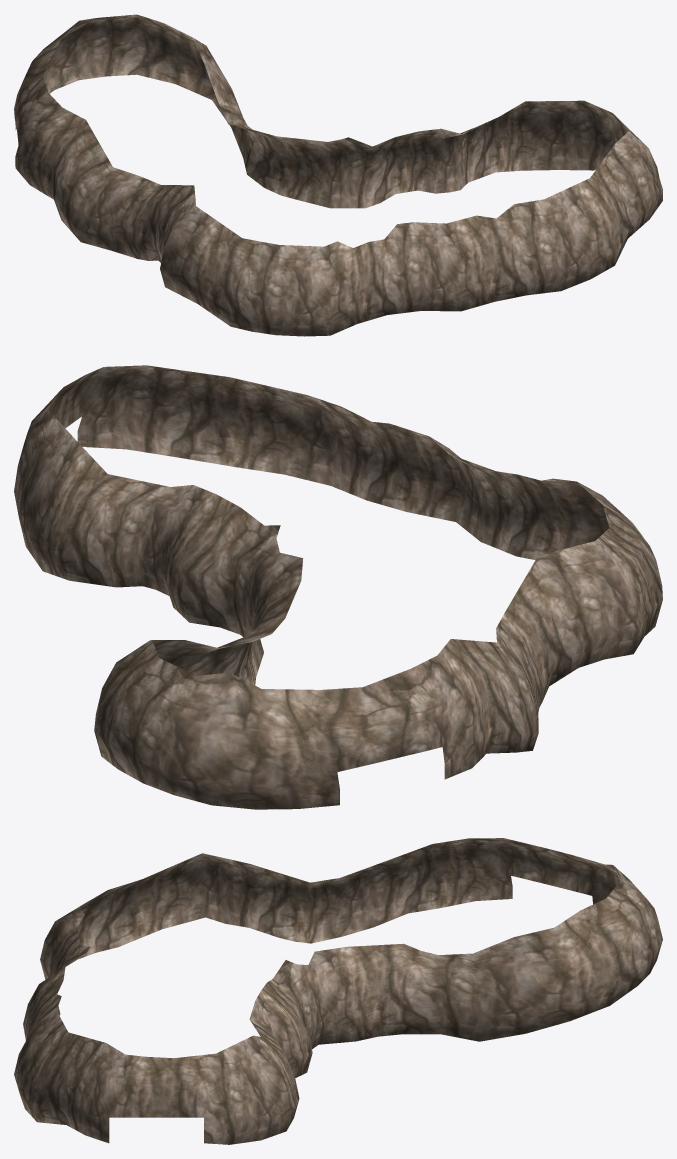
Rendered from EKH_JAIL_PS_JA_MAIN_TOP_WALL98476.fbx.
3 views of the same model, one above another, from view 1: azimuth 30°, elevation 25°; view 2: azimuth 150°, elevation 25°; view 3: azimuth 270°, elevation 25° (orthographic). The views are drawn at different scales.
Visible parts, largest first — view 1: EKH_JAIL_PS_JA_MAIN_TOP_WALL98476; view 2: EKH_JAIL_PS_JA_MAIN_TOP_WALL98476; view 3: EKH_JAIL_PS_JA_MAIN_TOP_WALL98476.
Boxes of the visible parts, x1,y1,x2,y2 form: EKH_JAIL_PS_JA_MAIN_TOP_WALL98476: (14,14,662,336); EKH_JAIL_PS_JA_MAIN_TOP_WALL98476: (14,365,662,809); EKH_JAIL_PS_JA_MAIN_TOP_WALL98476: (14,838,662,1144).
Size of the model in its own units: 313817 by 74932 by 354954.
1 material, 1 textured.
